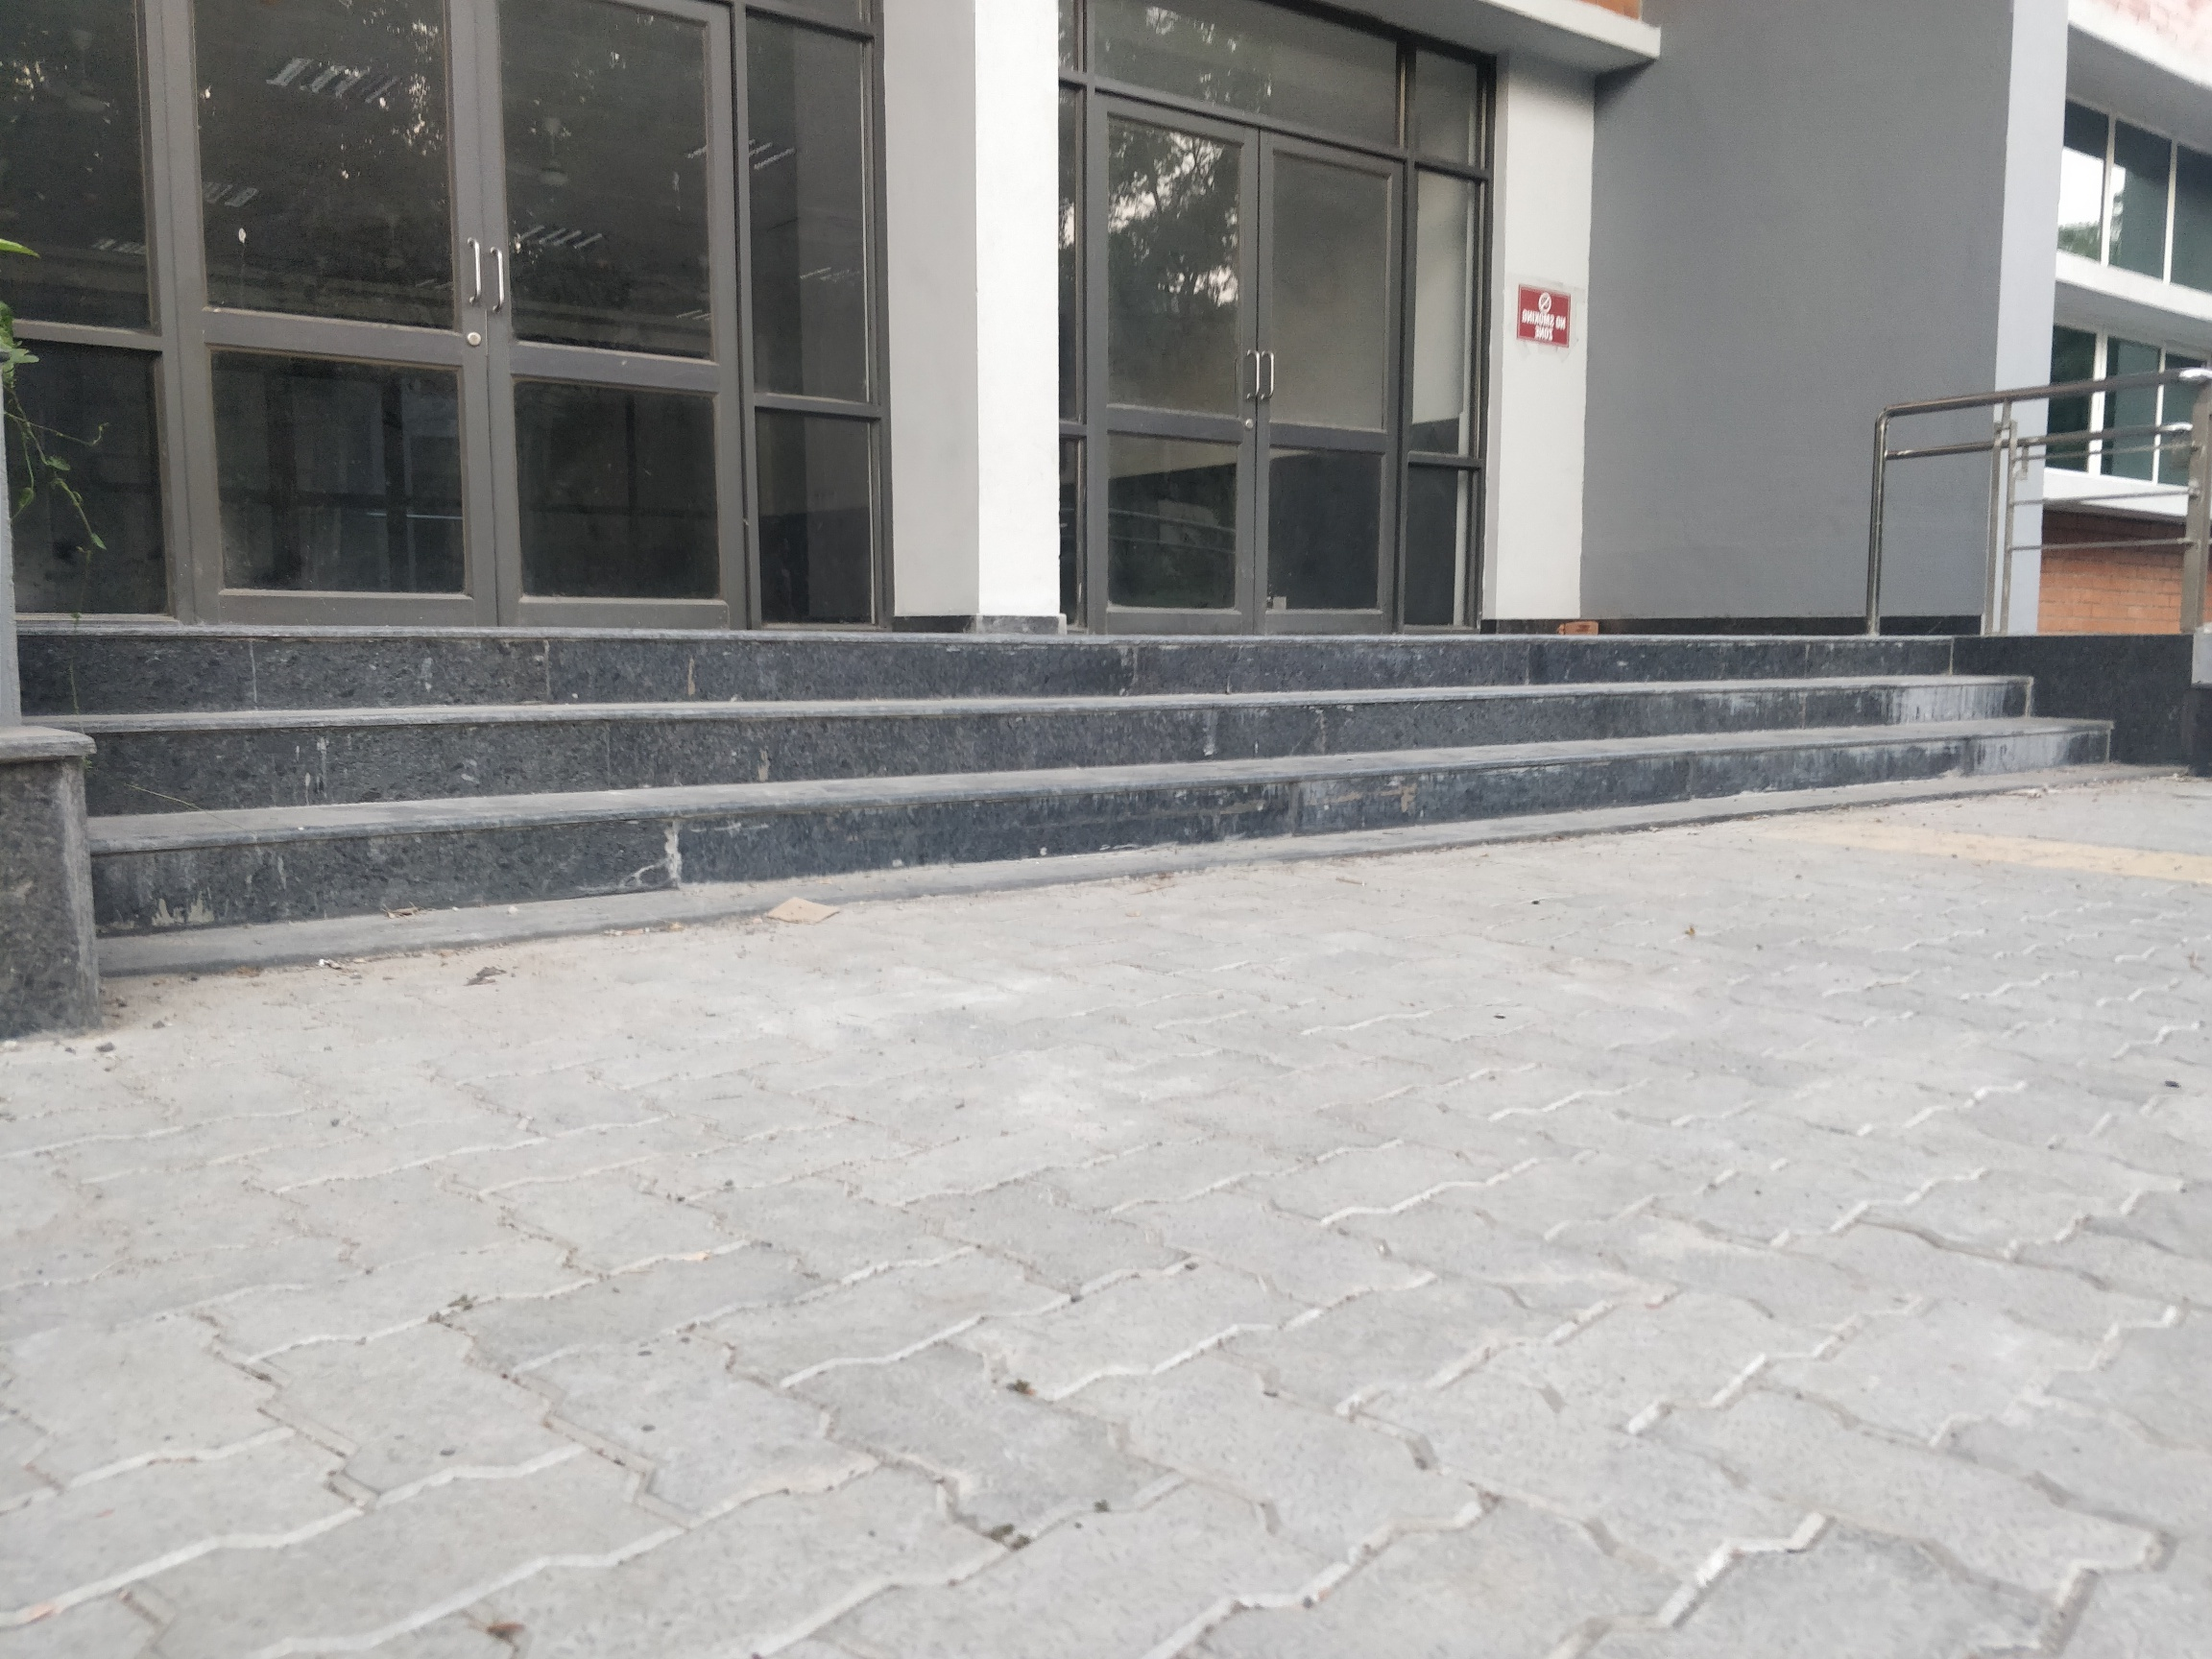stairs_up: (63, 598, 2067, 868)
